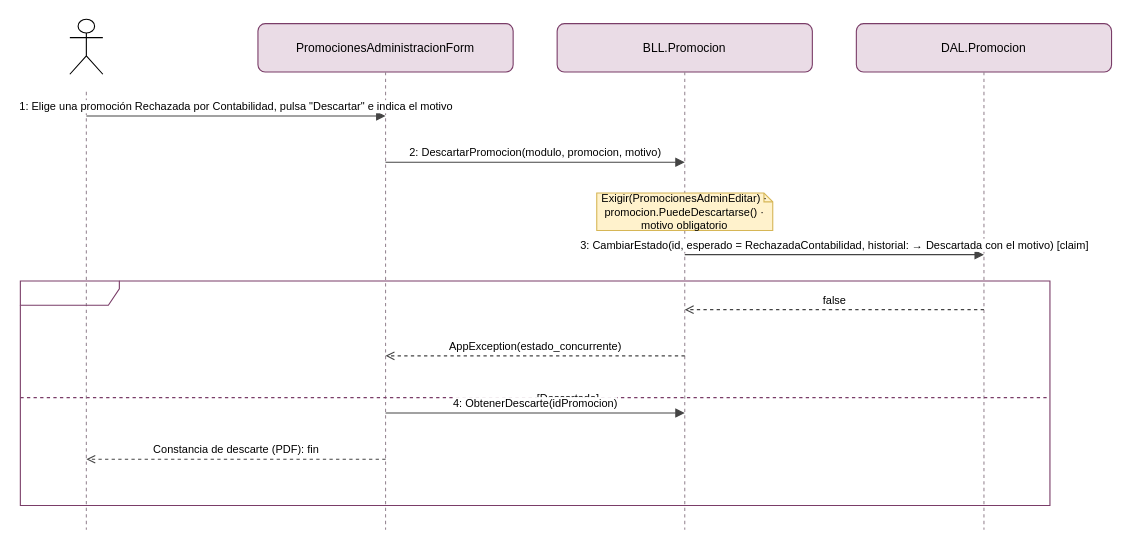
This 1131x550 diagram has some shape labels left out. Here are the shapes that lost their labels. From the top down, the centre of each, then its label:
point (86, 46): Administración
point (534, 392): alt [Otra sesión ya la cambió]
